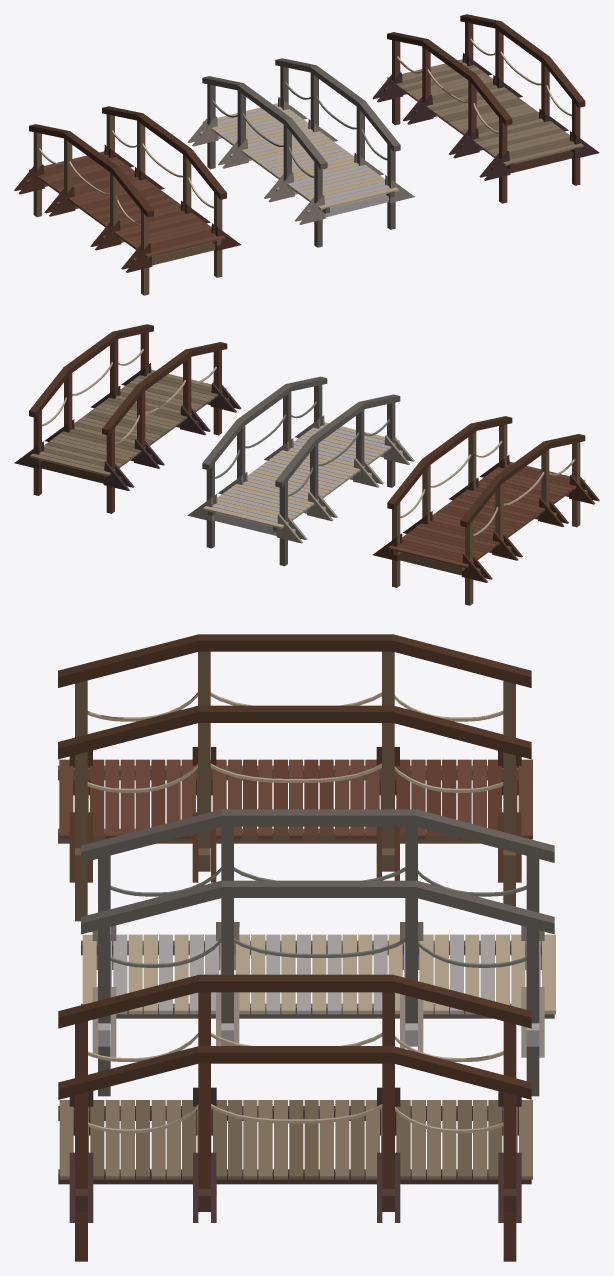
The model's file is Bridge.fbx.
3 views of the same model, one above another, from view 1: azimuth 30°, elevation 25°; view 2: azimuth 150°, elevation 25°; view 3: azimuth 270°, elevation 25° (orthographic). The views are drawn at different scales.
Visible parts, largest first — view 1: Cube.012, Cube.011, Cube.010; view 2: Cube.012, Cube.011, Cube.010; view 3: Cube.010, Cube.011, Cube.012.
Boxes of the visible parts, <box> form: Cube.012: <box>187,58,414,247</box>; Cube.011: <box>14,106,241,295</box>; Cube.010: <box>372,14,599,203</box>; Cube.012: <box>187,376,414,566</box>; Cube.011: <box>373,416,599,605</box>; Cube.010: <box>14,324,241,513</box>; Cube.010: <box>58,974,532,1261</box>; Cube.011: <box>58,634,532,921</box>; Cube.012: <box>81,809,555,1096</box>.
Bounding box in the file's own units: 2775 × 614 × 1265.
